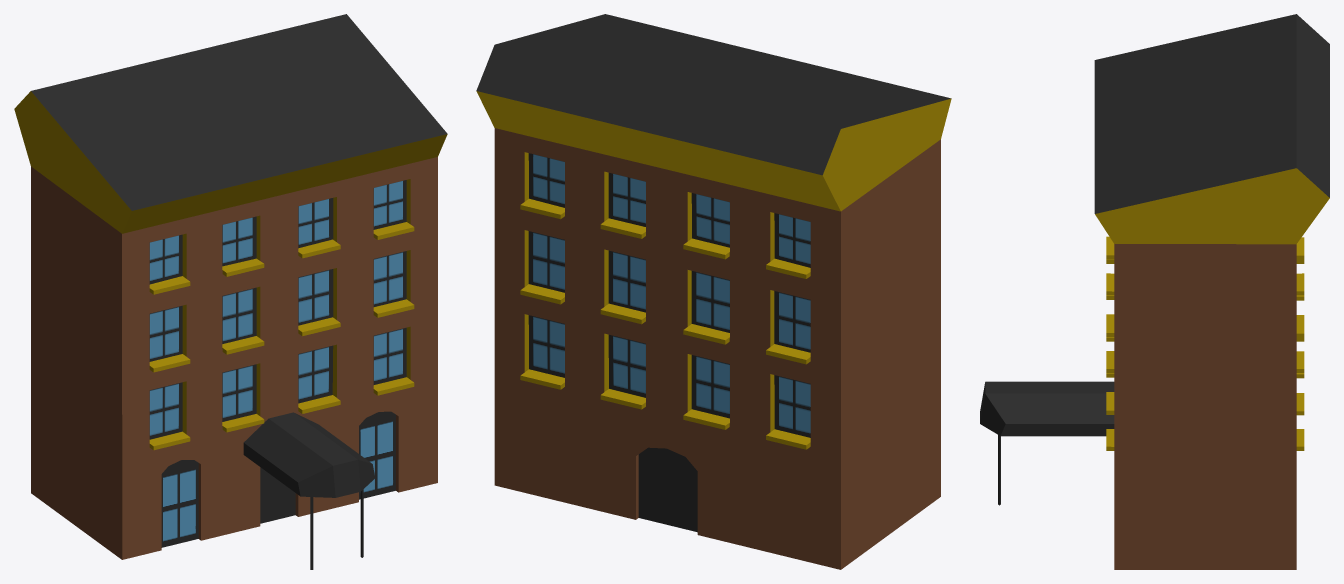
File: JazzBig3.obj
3 renders of one model, left to right at view 1: azimuth 30°, elevation 25°; view 2: azimuth 150°, elevation 25°; view 3: azimuth 270°, elevation 25°, orthographic. The views are drawn at different scales.
Visible parts, largest first — view 1: DuzyZwykly1.005; view 2: DuzyZwykly1.005; view 3: DuzyZwykly1.005.
Part boxes in pixels (x1=…): DuzyZwykly1.005: x1=14, y1=14, x2=447, y2=569; DuzyZwykly1.005: x1=476, y1=14, x2=951, y2=569; DuzyZwykly1.005: x1=980, y1=14, x2=1329, y2=569.
Size of the model in its own units: 10.96 by 13.33 by 10.52.
